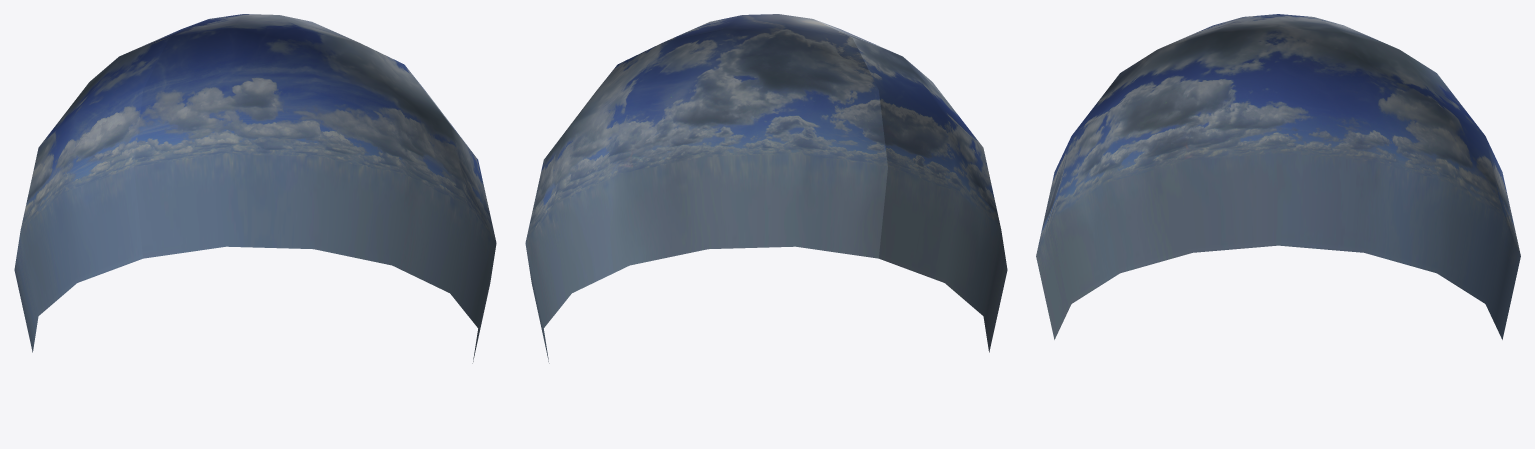
Rendered from sky.gltf.
3 renders of one model, left to right at view 1: azimuth 30°, elevation 25°; view 2: azimuth 150°, elevation 25°; view 3: azimuth 270°, elevation 25°, orthographic.
Bounding box in the file's own units: 1500 × 1037 × 1500.
Materials: 1 (1 with a texture image).
